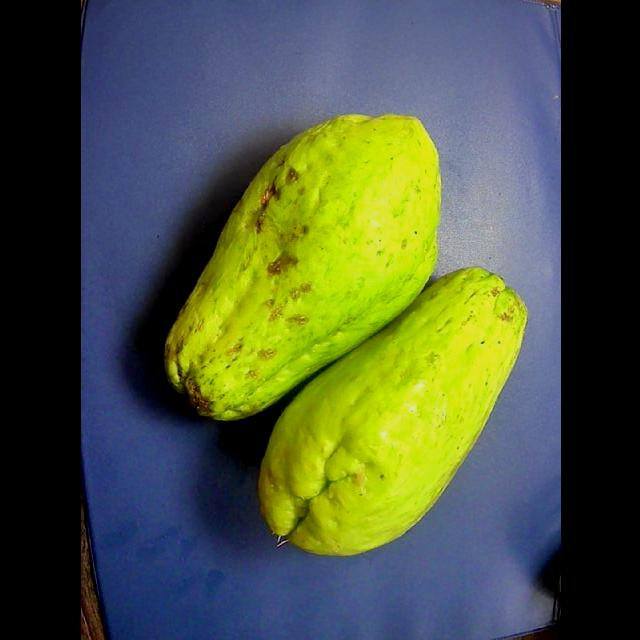chayote: (164, 114, 440, 420), (259, 267, 527, 555)
